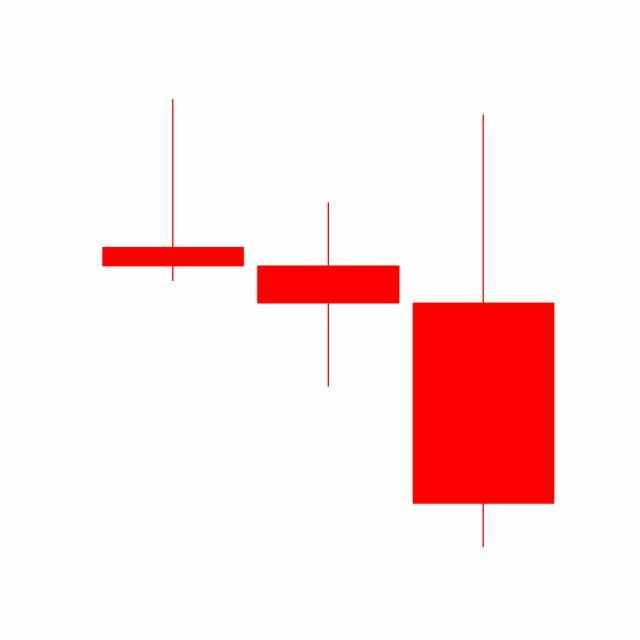Spinning Top: (250, 201, 407, 390)
